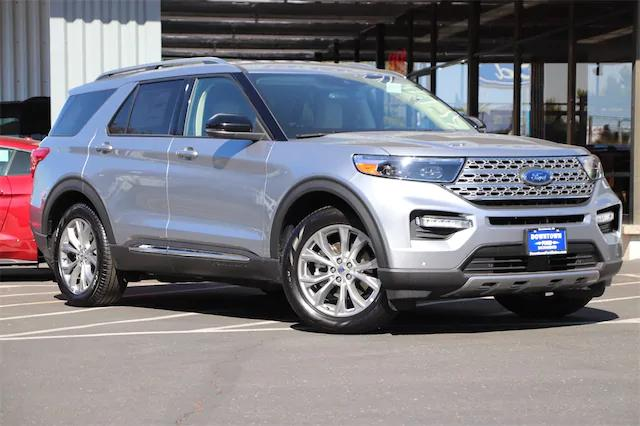Ford Explorer: (27, 53, 627, 336)
